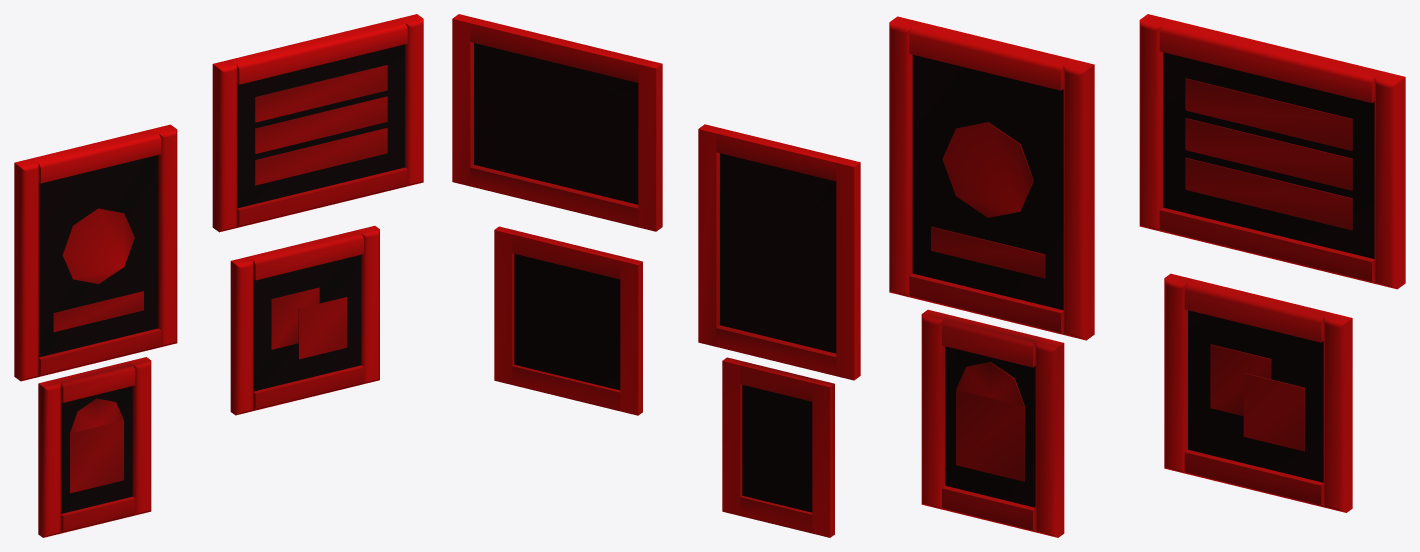
Rendered from CI_Decor_Frame_Cluster.glb.
3 renders of one model, left to right at view 1: azimuth 30°, elevation 25°; view 2: azimuth 150°, elevation 25°; view 3: azimuth 330°, elevation 25°, orthographic. The views are drawn at different scales.
Visible parts, largest first — view 1: CI_Decor_Frame_Cluster; view 2: CI_Decor_Frame_Cluster; view 3: CI_Decor_Frame_Cluster.
Boxes of the visible parts, box(x1,y1,x2,y2) form: CI_Decor_Frame_Cluster: box(14, 14, 423, 537); CI_Decor_Frame_Cluster: box(452, 14, 860, 537); CI_Decor_Frame_Cluster: box(889, 14, 1405, 537).
Bounding box in the file's own units: 0.67 × 0.68 × 0.025.
